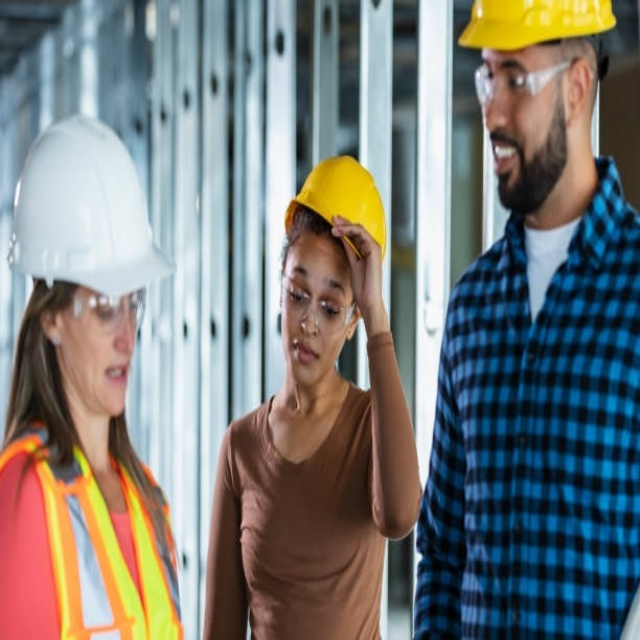Gafas: (280, 267, 356, 335), (470, 56, 573, 106), (62, 284, 153, 327)
Sin_guantes: (329, 207, 388, 313)
Sin_mascara: (490, 133, 524, 190), (96, 353, 132, 397), (288, 339, 319, 376)
